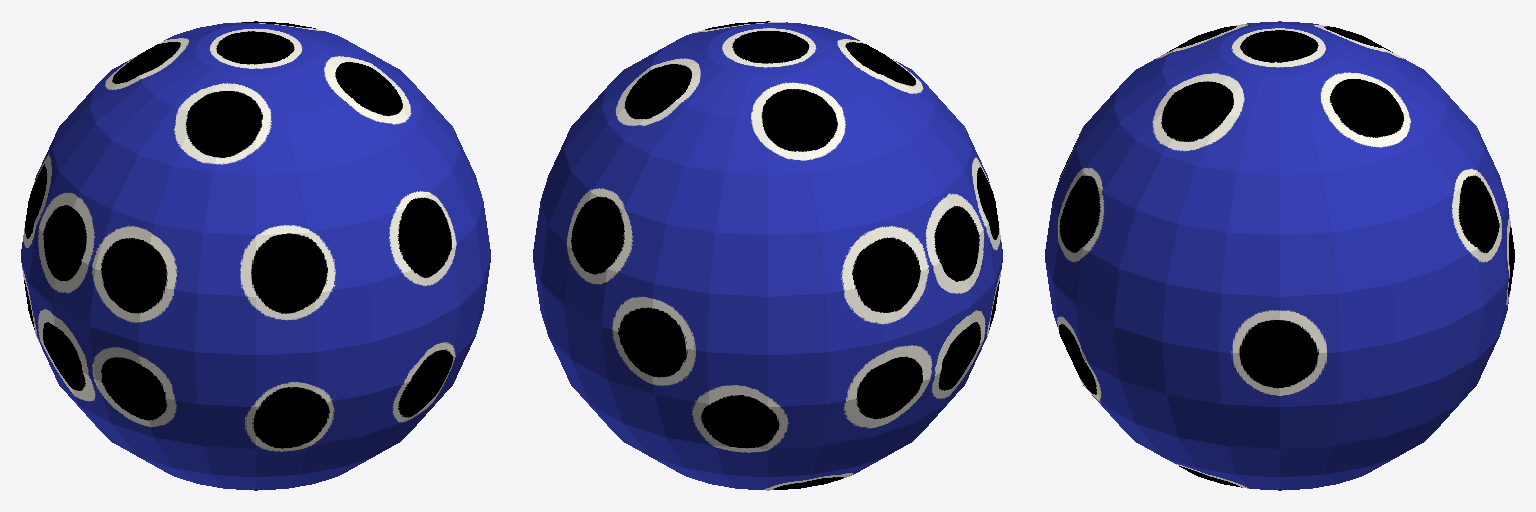
The picture shows the model from 3 angles: view 1: azimuth 30°, elevation 25°; view 2: azimuth 150°, elevation 25°; view 3: azimuth 270°, elevation 25°; orthographic projection.
Parts seen in each view (by area): view 1: Sphere_None; view 2: Sphere_None; view 3: Sphere_None.
Part boxes in pixels (bbox=[...]): Sphere_None: bbox=[21, 21, 490, 490]; Sphere_None: bbox=[533, 21, 1002, 490]; Sphere_None: bbox=[1045, 21, 1514, 490].
Size of the model in its own units: 2 by 2 by 2.
1 materials, 1 textured.